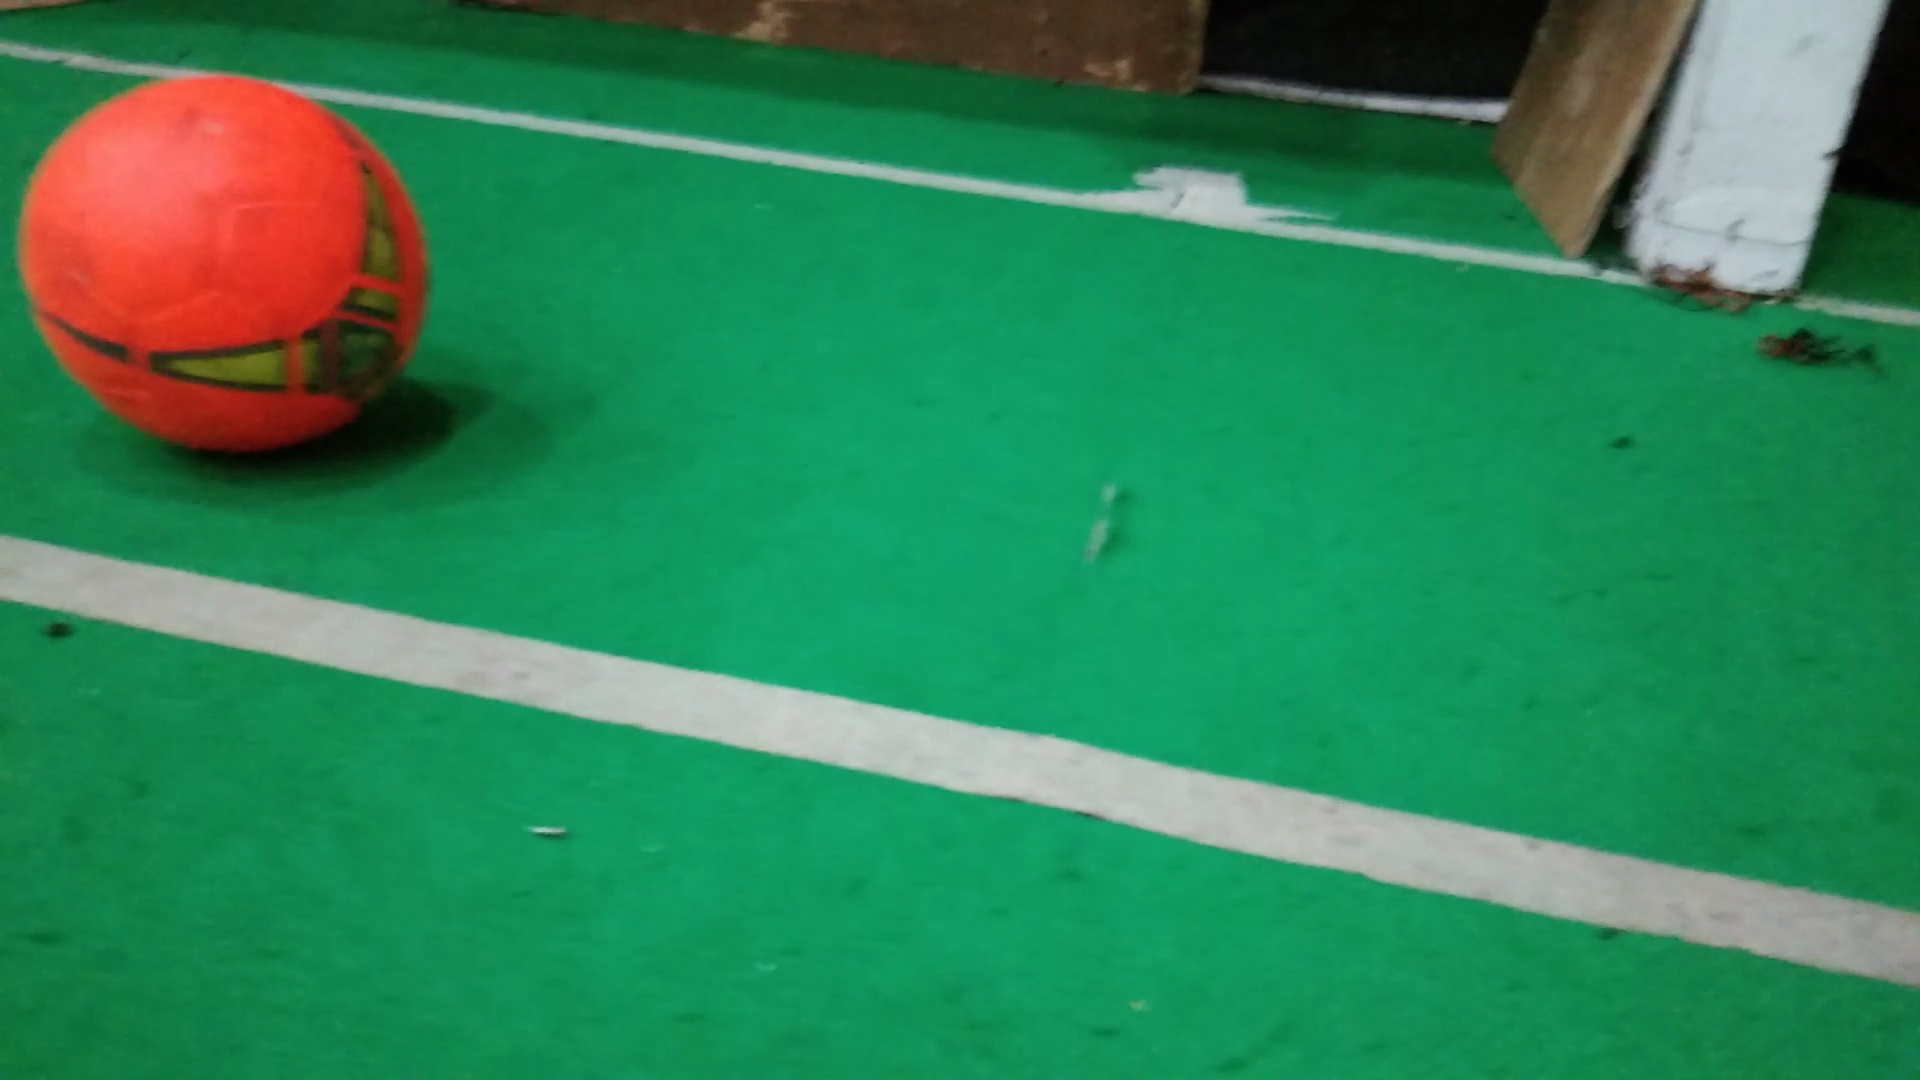bola: (11, 63, 443, 465)
